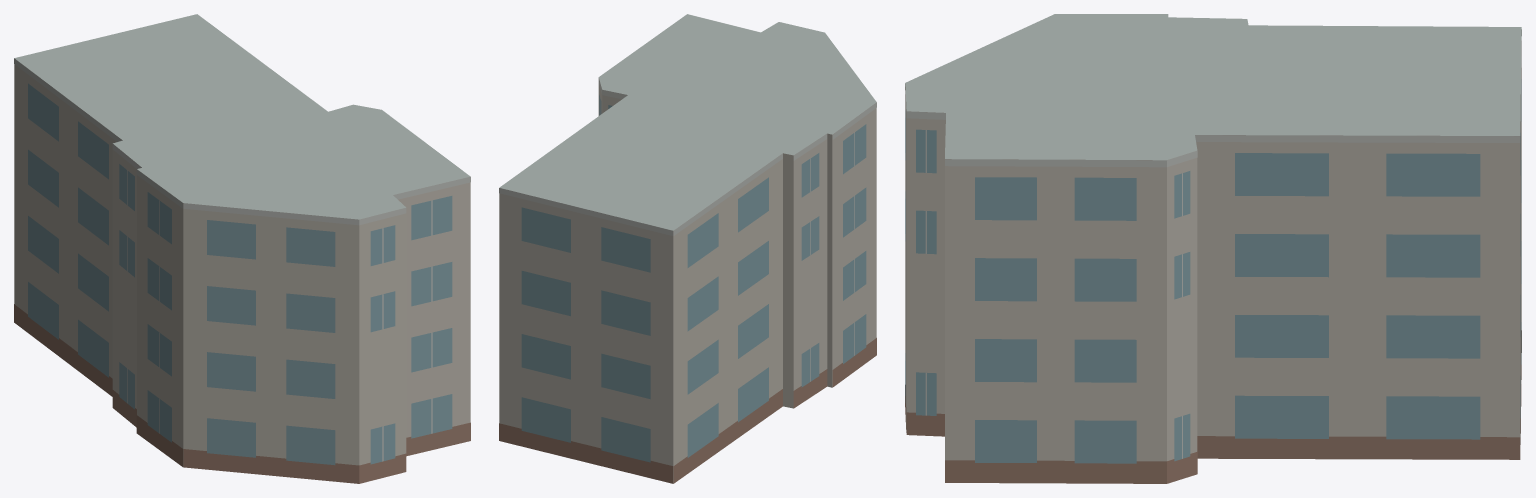
Rendered from survey-upis-32597527.glb.
The picture shows the model from 3 angles, left to right: view 1: azimuth 30°, elevation 25°; view 2: azimuth 150°, elevation 25°; view 3: azimuth 270°, elevation 25°; orthographic projection. The views are drawn at different scales.
Parts seen in each view (by area): view 1: survey-upis-32597527.tmp; view 2: survey-upis-32597527.tmp; view 3: survey-upis-32597527.tmp.
Part boxes in pixels (bbox=[...]): survey-upis-32597527.tmp: bbox=[14, 14, 470, 483]; survey-upis-32597527.tmp: bbox=[499, 14, 876, 483]; survey-upis-32597527.tmp: bbox=[905, 14, 1521, 483].
Bounding box in the file's own units: 10.86 × 11.2 × 19.34.
